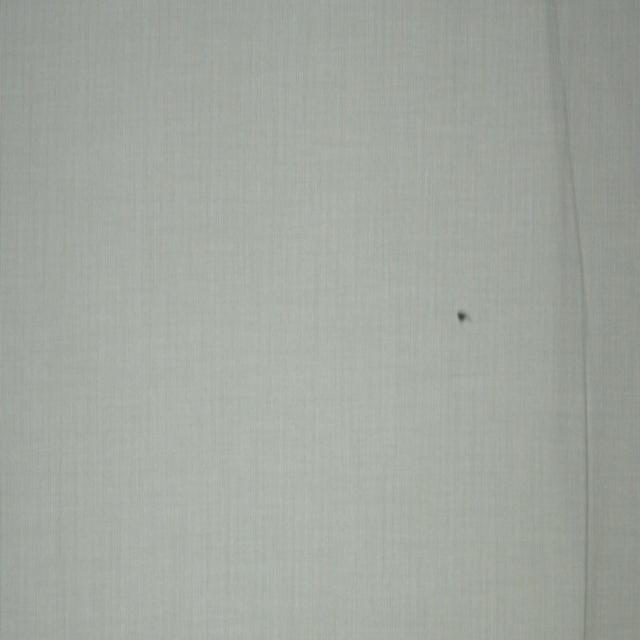dirty: (457, 310, 470, 324)
